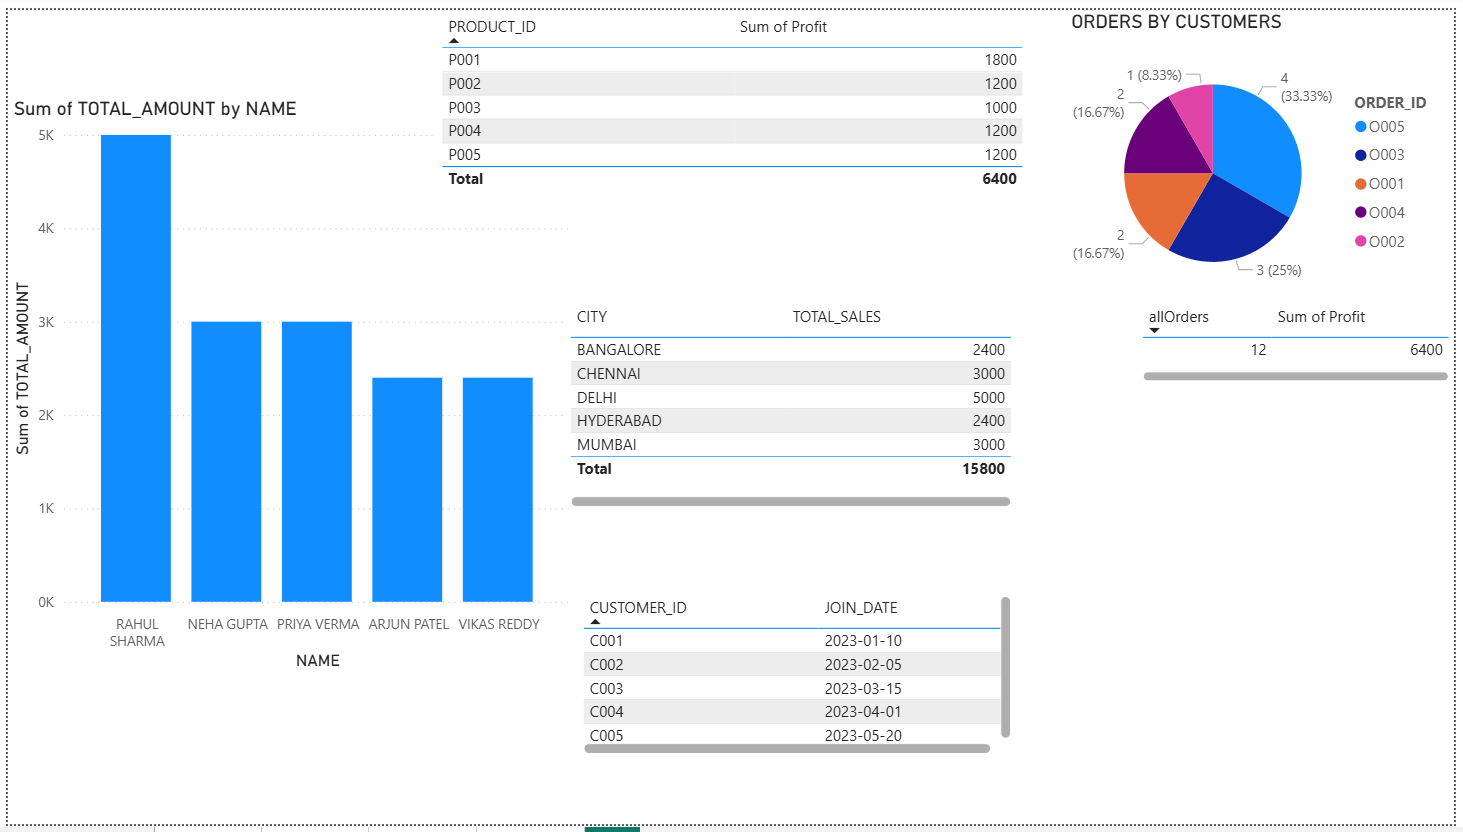

What the dashboard file says about the page in this screenshot:
{"tool":"powerbi","page":{"name":"Page 1","canvas":[1280,720],"ordinal":0},"visuals":[{"type":"lineClusteredColumnComboChart","fields":{"Category":["ecommerce customers.NAME"],"Y":["ecommerce orders.TOTAL_AMOUNT"]},"box":[0,77.5,503.6,510.5],"z":0},{"type":"pieChart","title":"ORDERS BY CUSTOMERS","fields":{"Y":["ORDERS.QUANTITY"],"Category":["ORDERS.ORDER_ID"]},"box":[936.6,0,343.1,269.8],"z":1000},{"type":"tableEx","fields":{"Values":["CUSTOMERS.allOrders","ORDERS.Profit"]},"box":[998.9,256,280.9,77.5],"z":2000},{"type":"tableEx","fields":{"Values":["ORDERS.PRODUCT_ID","ORDERS.Profit"]},"box":[379.1,0,524.4,172.9],"z":3000},{"type":"tableEx","fields":{"Values":["CUSTOMERS.CITY","CUSTOMERS.TOTAL_SALES"]},"box":[492.5,256,399.8,188.2],"z":4000},{"type":"tableEx","fields":{"Values":["CUSTOMERS.CUSTOMER_ID","CUSTOMERS.JOIN_DATE"]},"box":[503.6,513.3,388.8,149.4],"z":5000}]}

Visuals, with their boxes in screenshot pixels (x1, y1, x2, y2), scaled from the page's 1280x720 canvas onto the 1463x832 screenshot:
lineClusteredColumnComboChart - ecommerce customers.NAME x ecommerce orders.TOTAL_AMOUNT: <bbox>0, 90, 576, 679</bbox>
"ORDERS BY CUSTOMERS" pieChart: <bbox>1071, 0, 1462, 312</bbox>
tableEx - CUSTOMERS.allOrders x ORDERS.Profit: <bbox>1142, 296, 1462, 385</bbox>
tableEx - ORDERS.PRODUCT_ID x ORDERS.Profit: <bbox>433, 0, 1033, 200</bbox>
tableEx - CUSTOMERS.CITY x CUSTOMERS.TOTAL_SALES: <bbox>563, 296, 1020, 513</bbox>
tableEx - CUSTOMERS.CUSTOMER_ID x CUSTOMERS.JOIN_DATE: <bbox>576, 593, 1020, 766</bbox>
